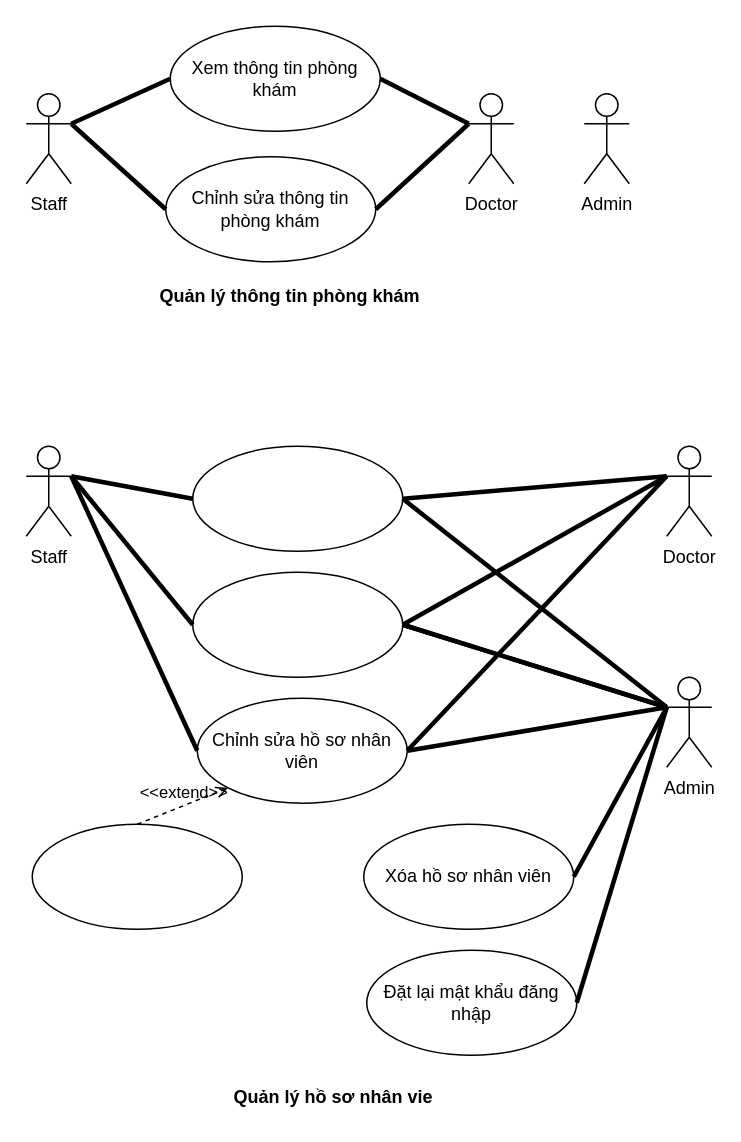
Image size: 741x1142. Some labels were removed from this diagram. The centre of each missing label's shape, as x and y in pixels:
Thay đổi mật khẩu: the point at 136,876
Xem hồ sơ nhân viên: the point at 297,624
Đăng ký nhân viên mới: the point at 297,498
